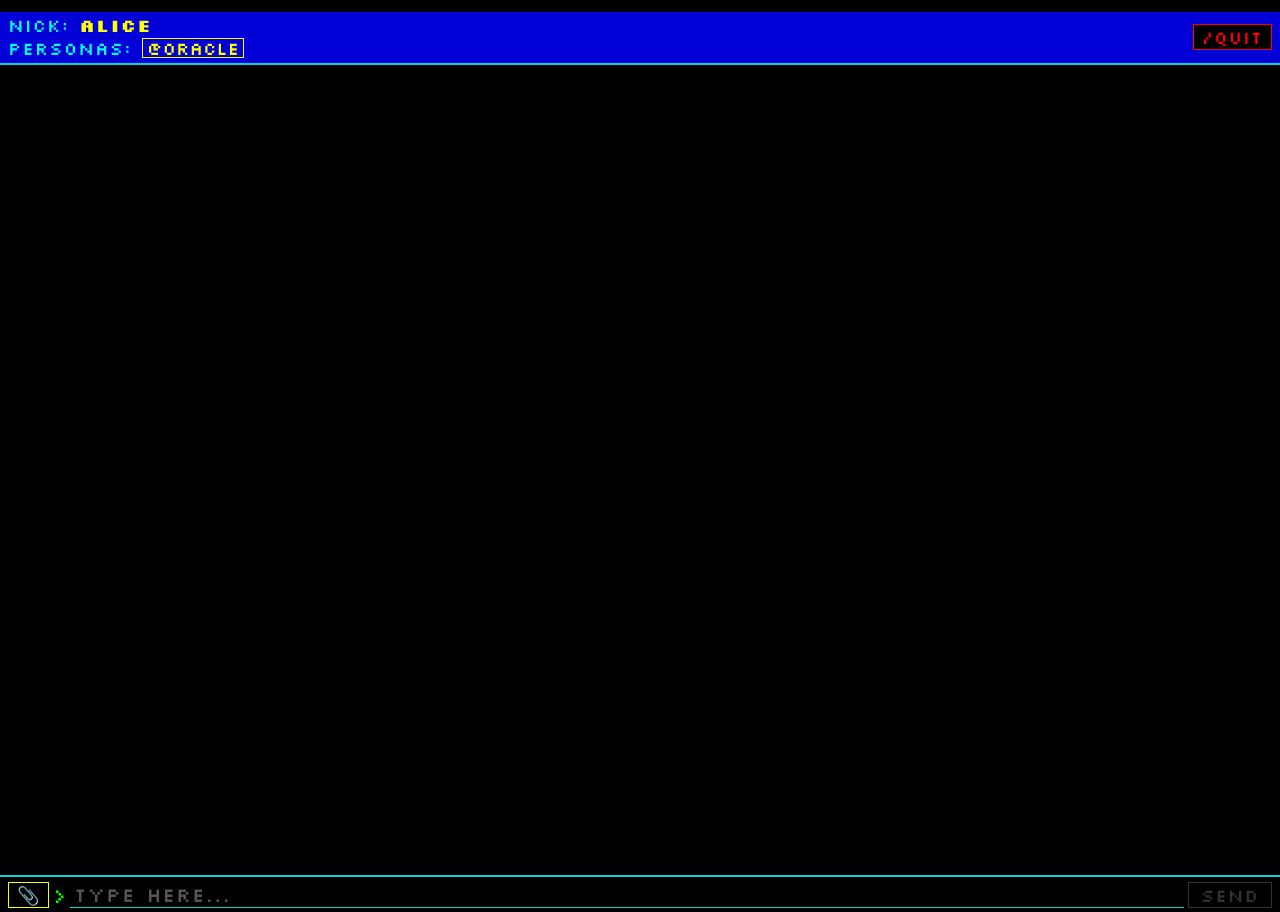
ChatBox persona commands › inserts @persona in the input when clicking persona in header list
The width and height of the screenshot is (1280, 912).
Click the button "@Oracle" at {"x": 193, "y": 48}, box 142,38 -> 244,58
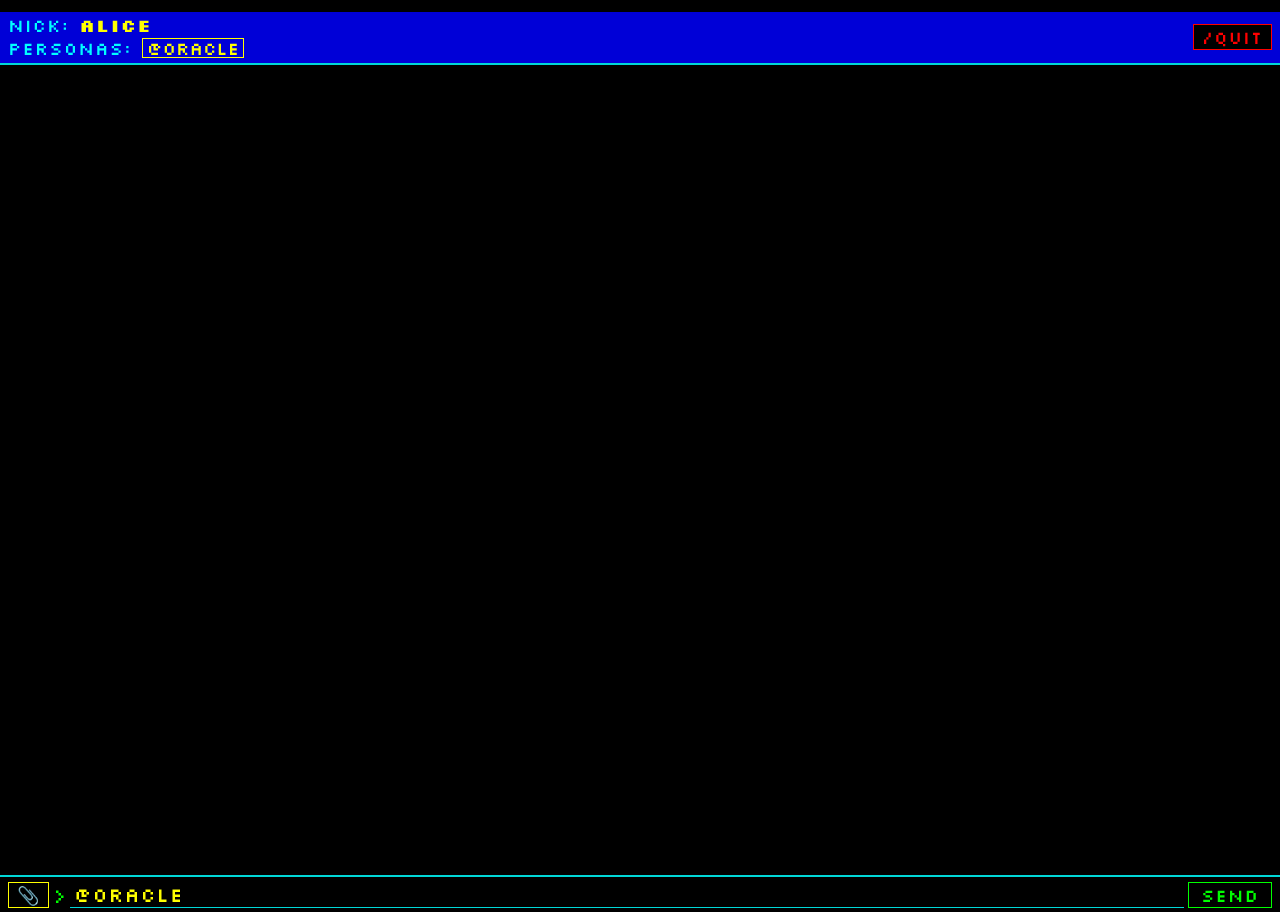
Expected: the field with placeholder "type here..." holds "@Oracle", 70,881 -> 1184,908
